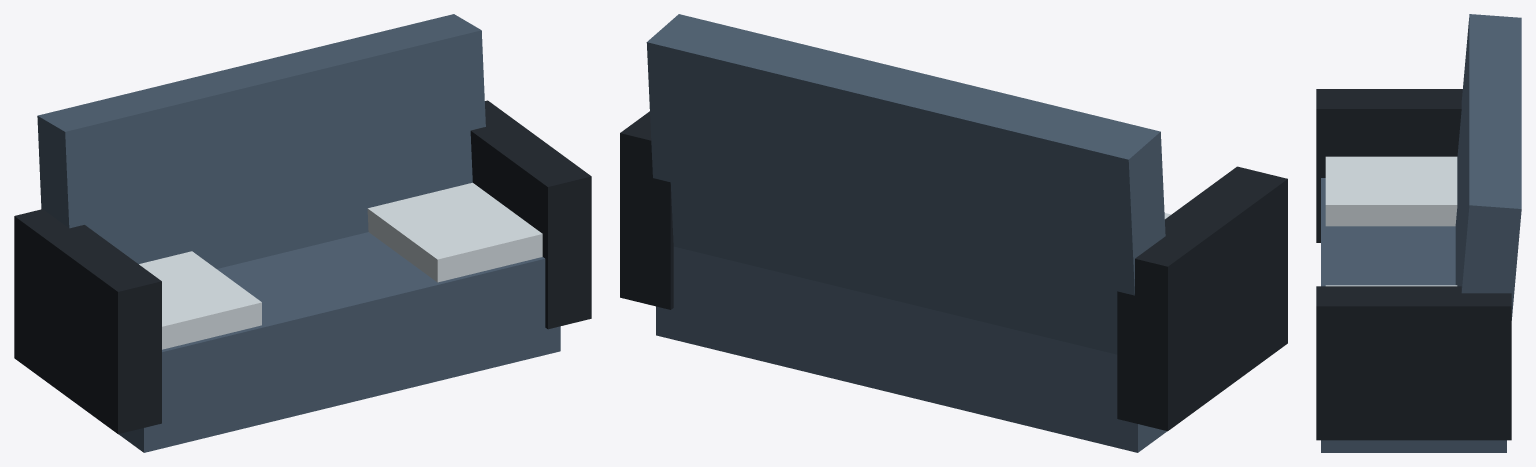
The model's file is sofa.glb.
3 renders of one model, left to right at view 1: azimuth 30°, elevation 25°; view 2: azimuth 150°, elevation 25°; view 3: azimuth 270°, elevation 25°, orthographic. The views are drawn at different scales.
Size of the model in its own units: 2.16 by 1.15 by 0.8624.
